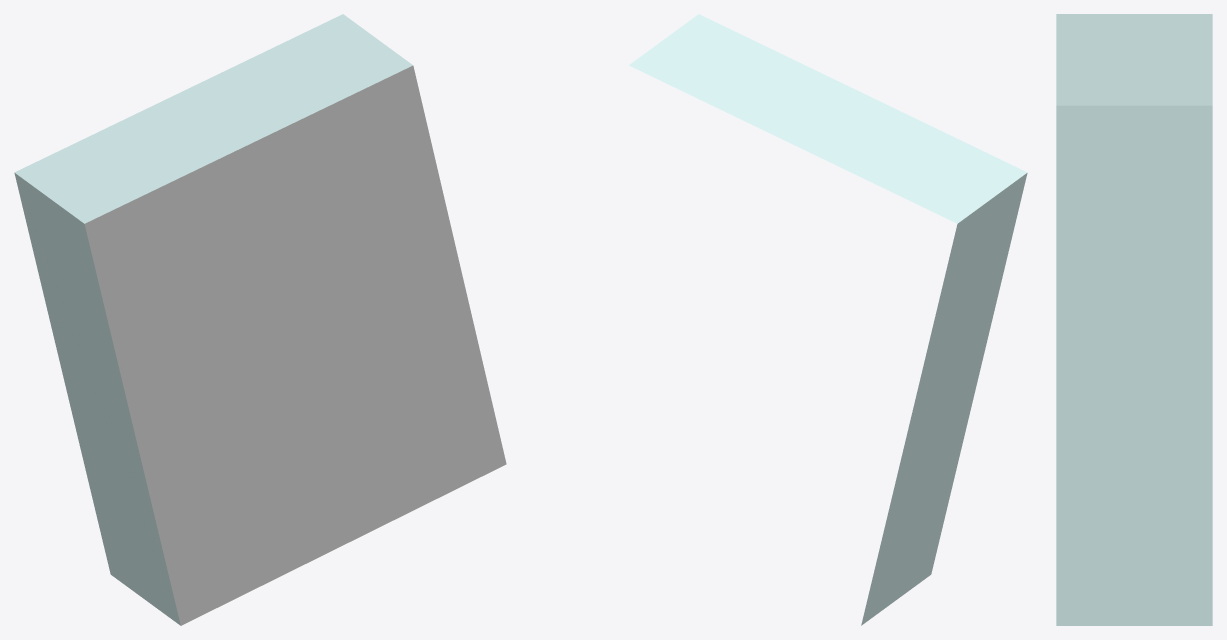
3 views of the same model, side by side, from view 1: azimuth 30°, elevation 25°; view 2: azimuth 150°, elevation 25°; view 3: azimuth 270°, elevation 25° (orthographic). The views are drawn at different scales.
Visible parts, largest first — view 1: 0_1_2_1_1_1_0_1_0; view 2: 0_1_2_1_1_1_0_1_0; view 3: 0_1_2_1_1_1_0_1_0.
Boxes of the visible parts, x1,y1,x2,y2 form: 0_1_2_1_1_1_0_1_0: [14, 14, 506, 625]; 0_1_2_1_1_1_0_1_0: [629, 14, 1027, 625]; 0_1_2_1_1_1_0_1_0: [1056, 14, 1212, 625].
Size of the model in its own units: 10.41 by 11.88 by 3.
